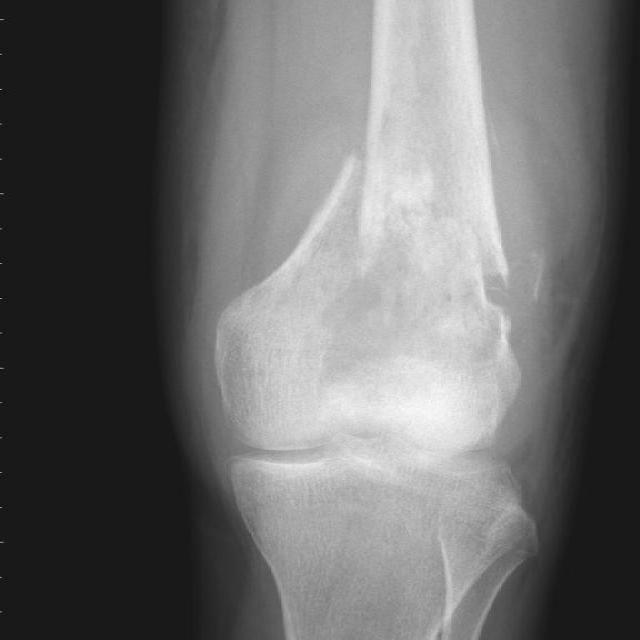pathological: (294, 134, 546, 371)
